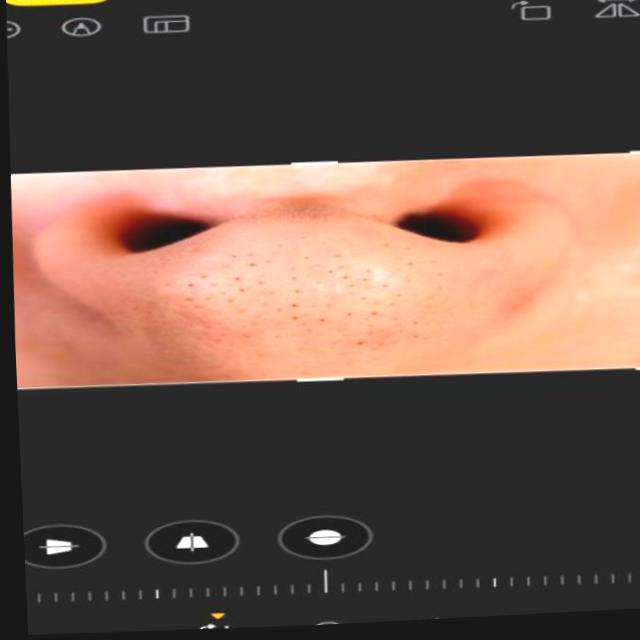blackhead: (142, 231, 447, 366)
